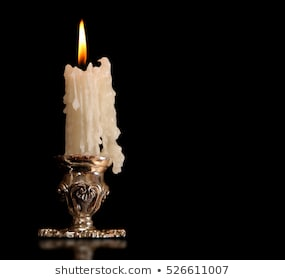Fire: (74, 17, 90, 65)
